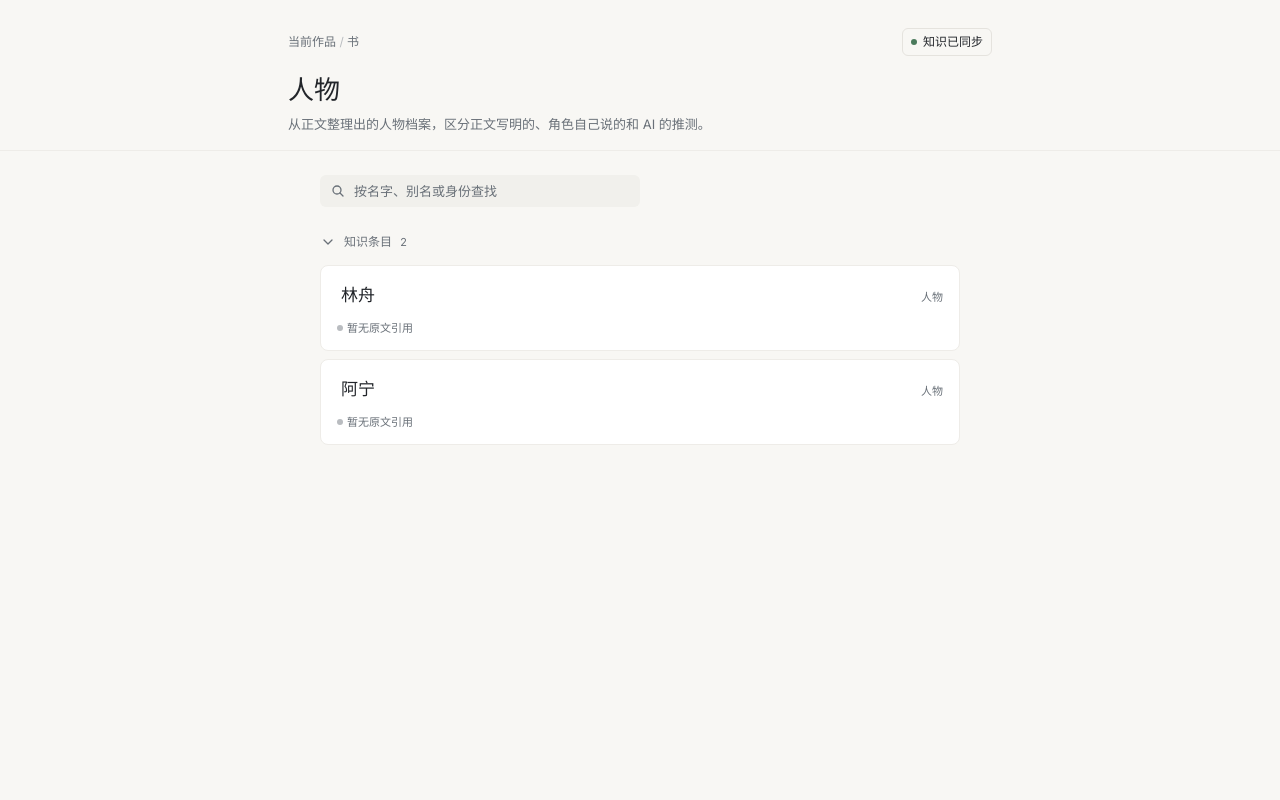
Test: private AI memory › ignores a late detail response after another entity is selected
Expected: the heading "林舟" is shown, 341,283 -> 375,309
What coordinates should you click on to do the following:
click the button with aria-label "打开林舟详情"
I would click on:
 (358, 296)
Its box is 329,280 -> 387,312.
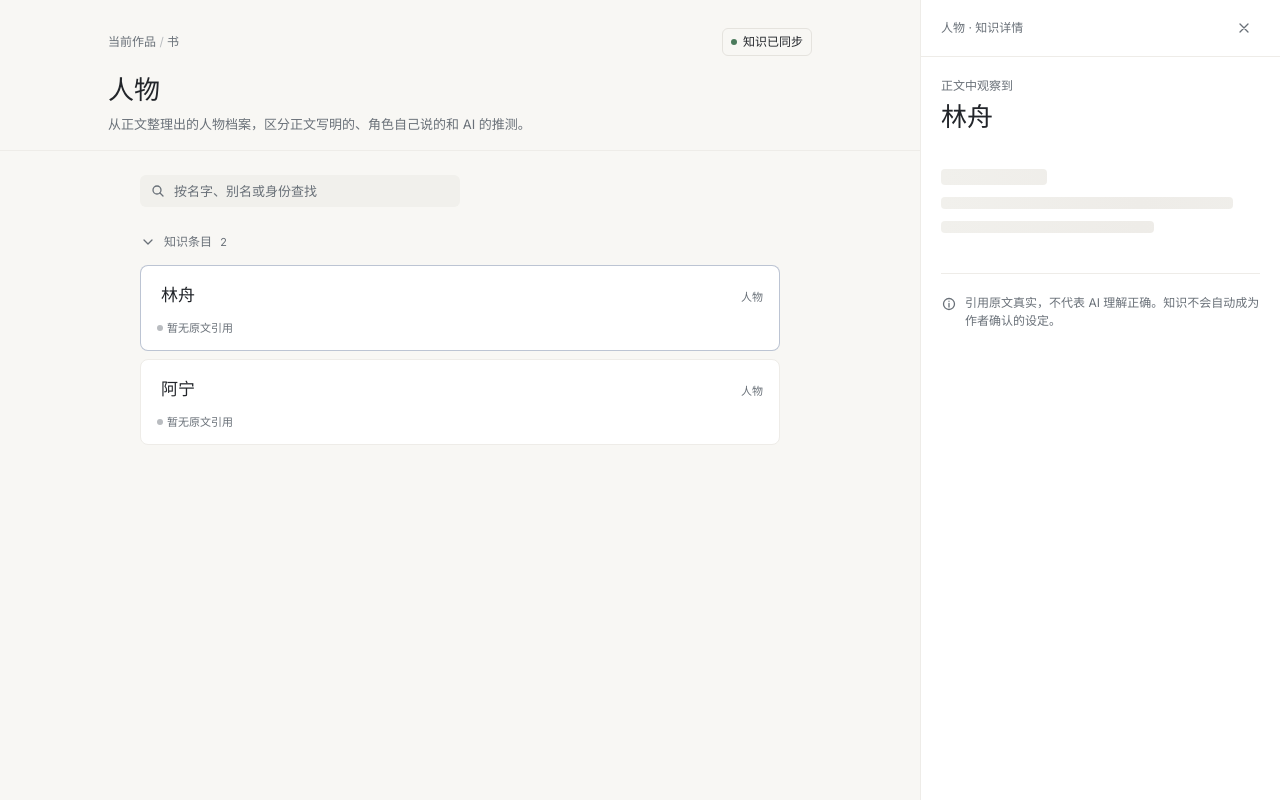
What coordinates should you click on to do the following:
click the button named "关闭详情"
I would click on:
 (1244, 28)
Its box is 1228,12 -> 1260,44.
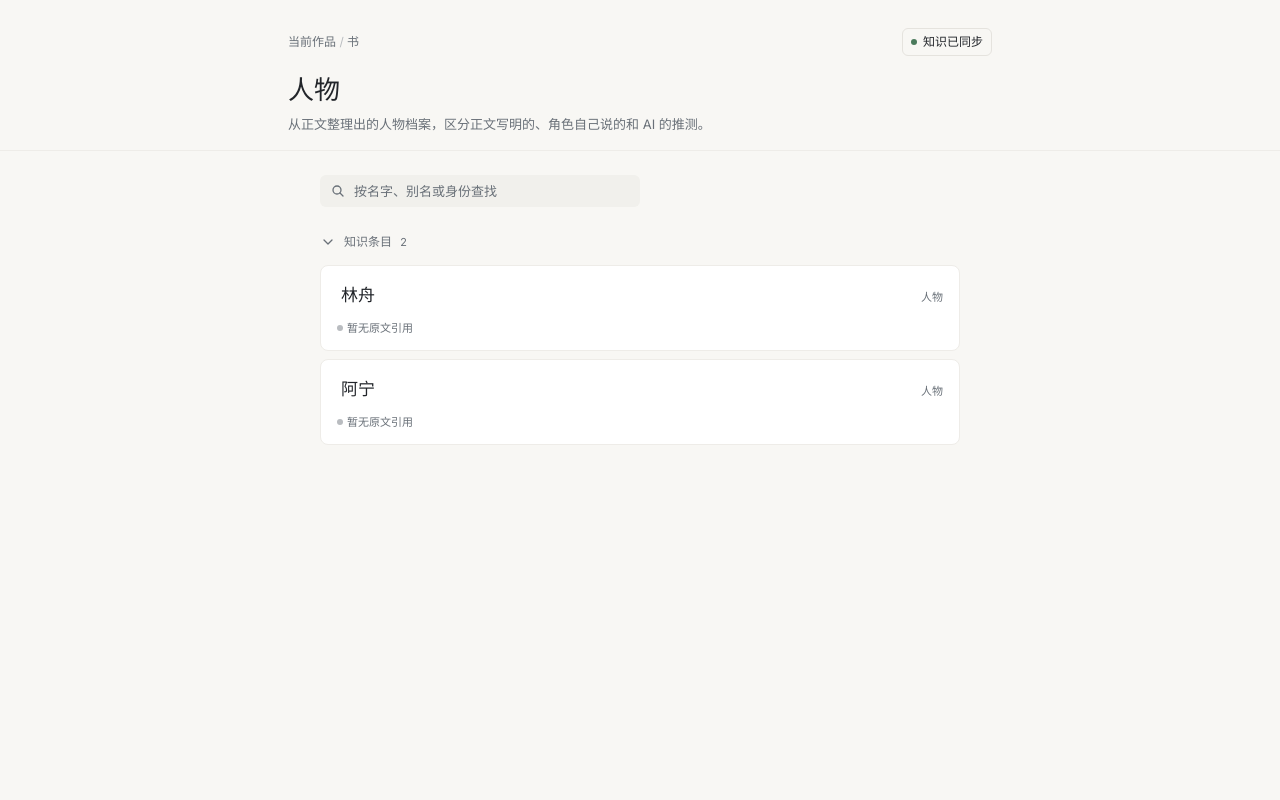
What coordinates should you click on to do the following:
click the button with aria-label "打开阿宁详情"
I would click on:
 (358, 390)
Its box is 329,374 -> 387,406.
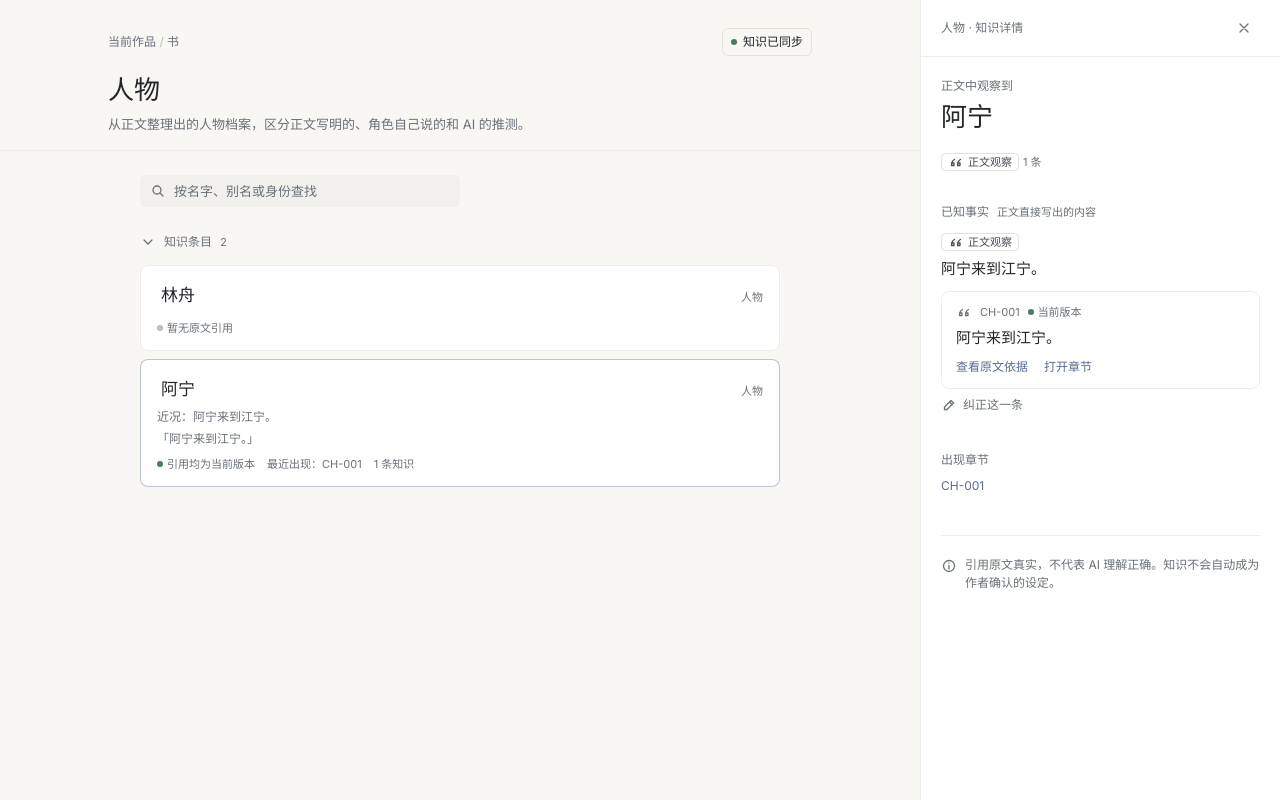
Now the 1st text "阿宁来到江宁。" is shown, box 941,259 -> 1046,278
